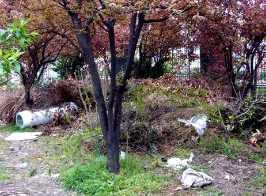garbage: (176, 113, 211, 141), (176, 169, 212, 192), (243, 128, 262, 155), (162, 155, 195, 169), (117, 149, 127, 163)
